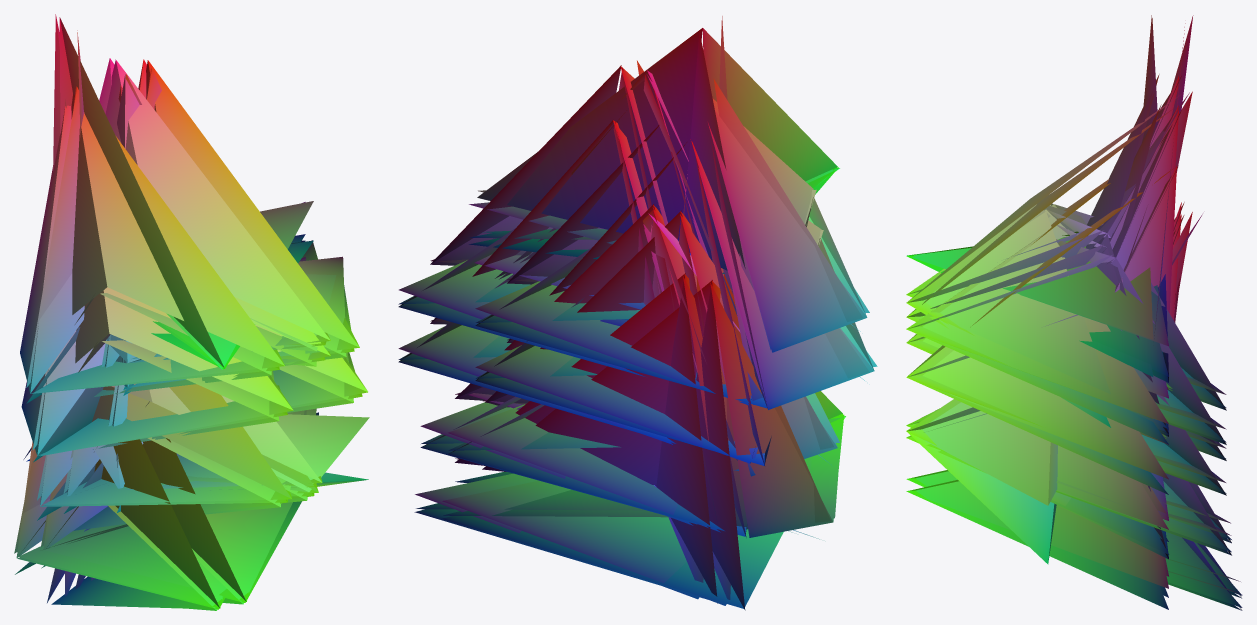
File: npc_goblin_base.glb
The picture shows the model from 3 angles, left to right: view 1: azimuth 30°, elevation 25°; view 2: azimuth 150°, elevation 25°; view 3: azimuth 270°, elevation 25°; orthographic projection. The views are drawn at different scales.
Parts seen in each view (by area): view 1: upper_arm_l, lower_arm_l, head, lower_leg_l, lower_leg_r, upper_leg_l, hair, upper_arm_r, torso, lower_arm_r, neck, upper_leg_r; view 2: lower_leg_l, upper_arm_l, hair, lower_arm_l, upper_leg_l, lower_leg_r, upper_arm_r, lower_arm_r, upper_leg_r, head, torso, neck; view 3: head, lower_arm_r, upper_arm_r, torso, lower_leg_r, hair, upper_leg_r, neck, upper_arm_l, upper_leg_l, lower_arm_l, lower_leg_l.
Part boxes in pixels (bbox=[...]): upper_arm_l: bbox=[20, 86, 284, 403]; lower_arm_l: bbox=[21, 287, 293, 462]; head: bbox=[99, 58, 336, 389]; lower_leg_l: bbox=[14, 439, 226, 610]; lower_leg_r: bbox=[41, 438, 301, 604]; upper_leg_l: bbox=[37, 384, 291, 530]; hair: bbox=[53, 14, 313, 369]; upper_arm_r: bbox=[101, 59, 359, 367]; torso: bbox=[93, 383, 369, 512]; lower_arm_r: bbox=[108, 324, 367, 426]; neck: bbox=[116, 85, 330, 395]; upper_leg_r: bbox=[63, 408, 318, 513]; lower_leg_l: bbox=[442, 274, 845, 610]; upper_arm_l: bbox=[475, 79, 869, 408]; hair: bbox=[469, 16, 839, 273]; lower_arm_l: bbox=[475, 139, 877, 465]; upper_leg_l: bbox=[448, 210, 839, 537]; lower_leg_r: bbox=[414, 273, 811, 603]; upper_arm_r: bbox=[398, 60, 667, 376]; lower_arm_r: bbox=[398, 120, 675, 444]; upper_leg_r: bbox=[420, 204, 717, 525]; head: bbox=[474, 70, 737, 320]; torso: bbox=[468, 209, 740, 470]; neck: bbox=[499, 88, 711, 326]; head: bbox=[906, 90, 1192, 435]; lower_arm_r: bbox=[906, 166, 1226, 495]; upper_arm_r: bbox=[906, 108, 1226, 444]; torso: bbox=[906, 212, 1202, 564]; lower_leg_r: bbox=[906, 276, 1242, 610]; hair: bbox=[906, 15, 1193, 382]; upper_leg_r: bbox=[906, 214, 1231, 555]; neck: bbox=[906, 104, 1178, 436]; upper_arm_l: bbox=[906, 74, 1226, 410]; upper_leg_l: bbox=[906, 202, 1231, 543]; lower_arm_l: bbox=[906, 179, 1226, 460]; lower_leg_l: bbox=[906, 470, 1242, 598].
Size of the model in its own units: 1.53 by 2.26 by 1.28.
